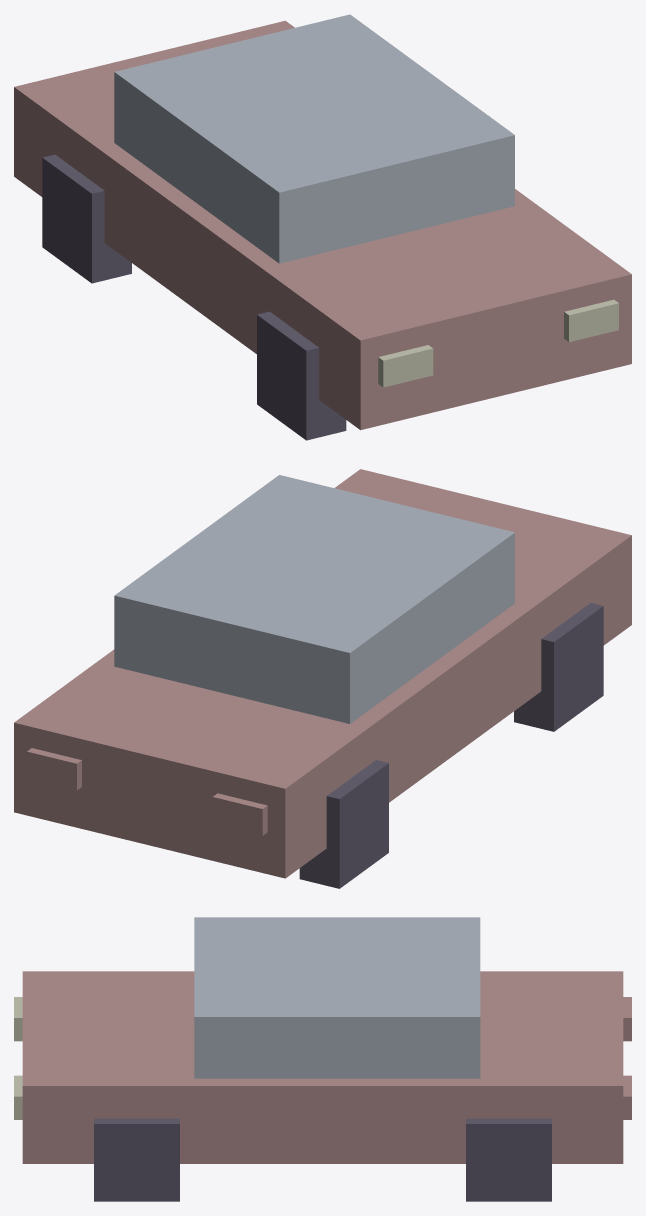
File: veh_pickup.glb
3 renders of one model, top to bottom at view 1: azimuth 30°, elevation 25°; view 2: azimuth 150°, elevation 25°; view 3: azimuth 270°, elevation 25°, orthographic. The views are drawn at different scales.
Visible parts, largest first — view 1: veh_pickup; view 2: veh_pickup; view 3: veh_pickup.
Part boxes in pixels (left/top/right/bottom): veh_pickup: left=14, top=14, right=631, bottom=440; veh_pickup: left=14, top=469, right=631, bottom=888; veh_pickup: left=14, top=917, right=631, bottom=1201.
Size of the model in its own units: 2.08 by 1.33 by 4.32.
